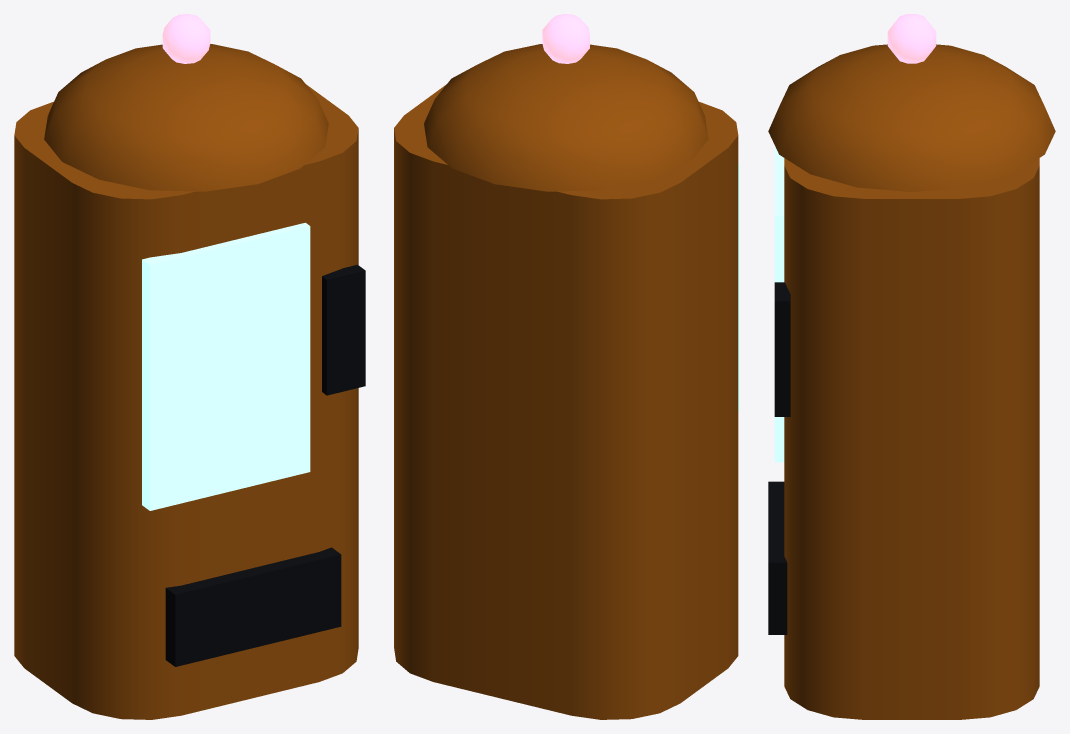
Rendered from vending_tube.glb.
The picture shows the model from 3 angles, left to right: view 1: azimuth 30°, elevation 25°; view 2: azimuth 150°, elevation 25°; view 3: azimuth 270°, elevation 25°; orthographic projection.
Parts seen in each view (by area): view 1: vending_tube; view 2: vending_tube; view 3: vending_tube.
Boxes of the visible parts, x1=… form: vending_tube: x1=14, y1=14, x2=365, y2=719; vending_tube: x1=394, y1=14, x2=739, y2=719; vending_tube: x1=768, y1=14, x2=1055, y2=719.
Bounding box in the file's own units: 1 × 2.2 × 0.9.
